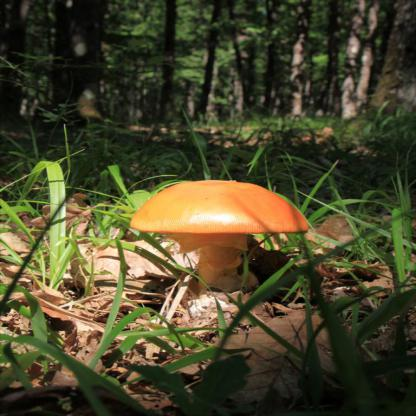Mushroom: (131, 179, 309, 295)
